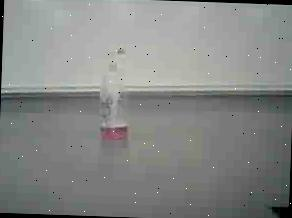hazard: (94, 39, 138, 145)
